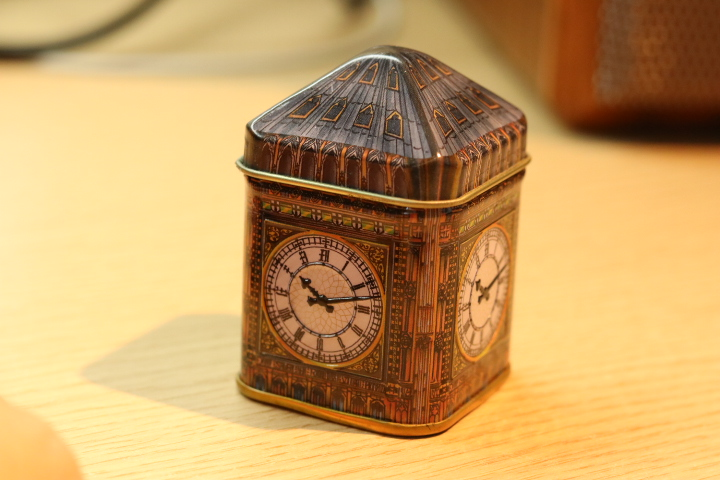Big Ben: (224, 38, 542, 448)
